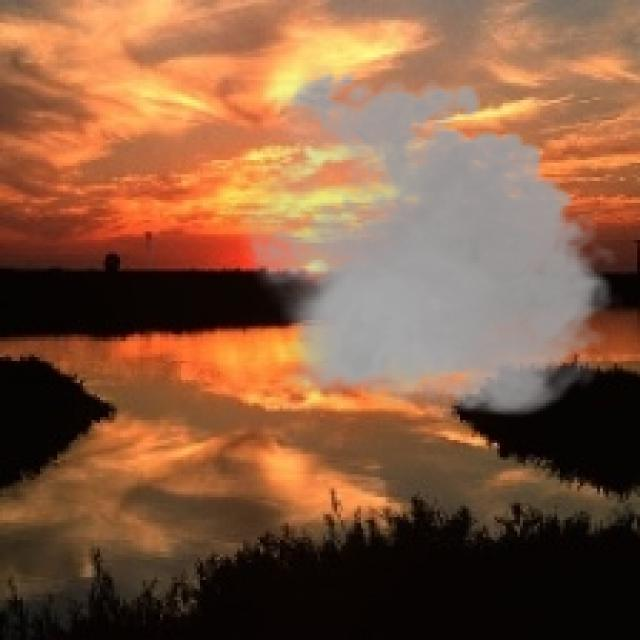Smoke: (225, 60, 626, 429)
